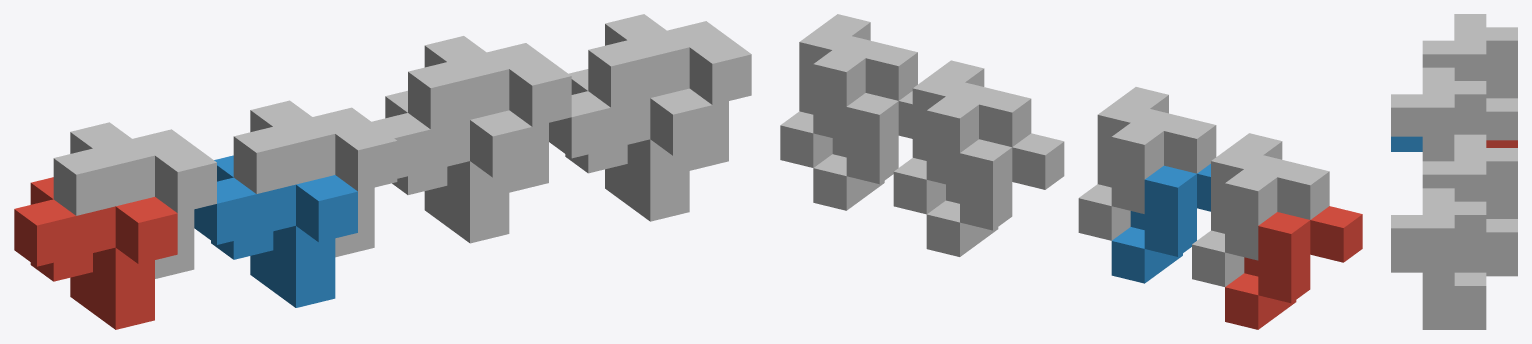
The model's file is tiling.obj.
3 renders of one model, left to right at view 1: azimuth 30°, elevation 25°; view 2: azimuth 150°, elevation 25°; view 3: azimuth 270°, elevation 25°, orthographic. The views are drawn at different scales.
Visible parts, largest first — view 1: copy_1_domain_1, copy_1_domain_6, copy_1_domain_2, copy_1_domain_5, copy_1_domain_4, copy_1_domain_3, copy_1_domain_7, copy_1_domain_8; view 2: copy_1_domain_7, copy_1_domain_4, copy_1_domain_3, copy_1_domain_8, copy_1_domain_5, copy_1_domain_1, copy_1_domain_6, copy_1_domain_2; view 3: copy_1_domain_8, copy_1_domain_3, copy_1_domain_7, copy_1_domain_4, copy_1_domain_6, copy_1_domain_2, copy_1_domain_5, copy_1_domain_1.
Boxes of the visible parts, left/top/right/bottom form: copy_1_domain_1: left=14, top=177, right=177, bottom=329; copy_1_domain_6: left=549, top=69, right=712, bottom=221; copy_1_domain_2: left=194, top=155, right=357, bottom=307; copy_1_domain_5: left=372, top=90, right=532, bottom=243; copy_1_domain_4: left=233, top=100, right=397, bottom=257; copy_1_domain_3: left=53, top=122, right=216, bottom=278; copy_1_domain_7: left=408, top=36, right=571, bottom=192; copy_1_domain_8: left=588, top=14, right=751, bottom=170; copy_1_domain_7: left=893, top=60, right=1031, bottom=214; copy_1_domain_4: left=1078, top=87, right=1216, bottom=240; copy_1_domain_3: left=1192, top=133, right=1329, bottom=286; copy_1_domain_8: left=780, top=14, right=917, bottom=167; copy_1_domain_5: left=926, top=133, right=1064, bottom=256; copy_1_domain_1: left=1225, top=206, right=1362, bottom=329; copy_1_domain_6: left=813, top=91, right=912, bottom=210; copy_1_domain_2: left=1111, top=164, right=1210, bottom=283; copy_1_domain_8: left=1391, top=188, right=1486, bottom=314; copy_1_domain_3: left=1422, top=14, right=1517, bottom=140; copy_1_domain_7: left=1422, top=134, right=1517, bottom=260; copy_1_domain_4: left=1391, top=67, right=1486, bottom=161; copy_1_domain_6: left=1391, top=257, right=1486, bottom=329; copy_1_domain_2: left=1391, top=136, right=1422, bottom=151; copy_1_domain_5: left=1486, top=261, right=1517, bottom=276; copy_1_domain_1: left=1486, top=140, right=1517, bottom=147.
Size of the model in its own units: 17 by 4 by 4.
